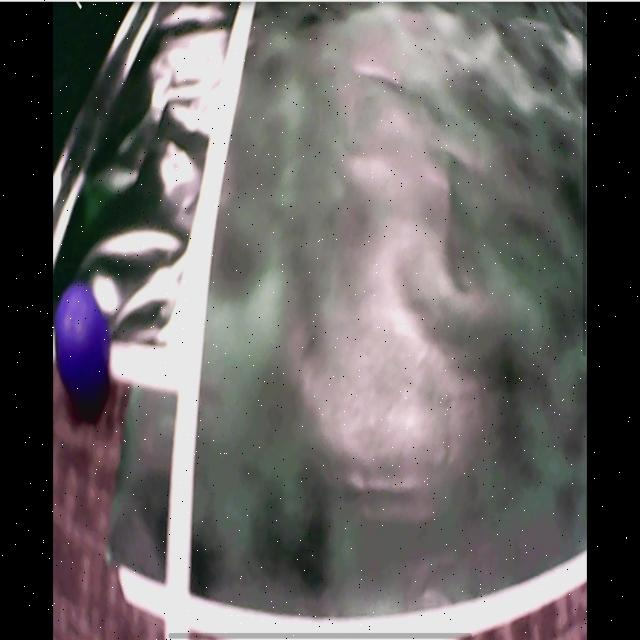ball: (54, 286, 111, 393)
